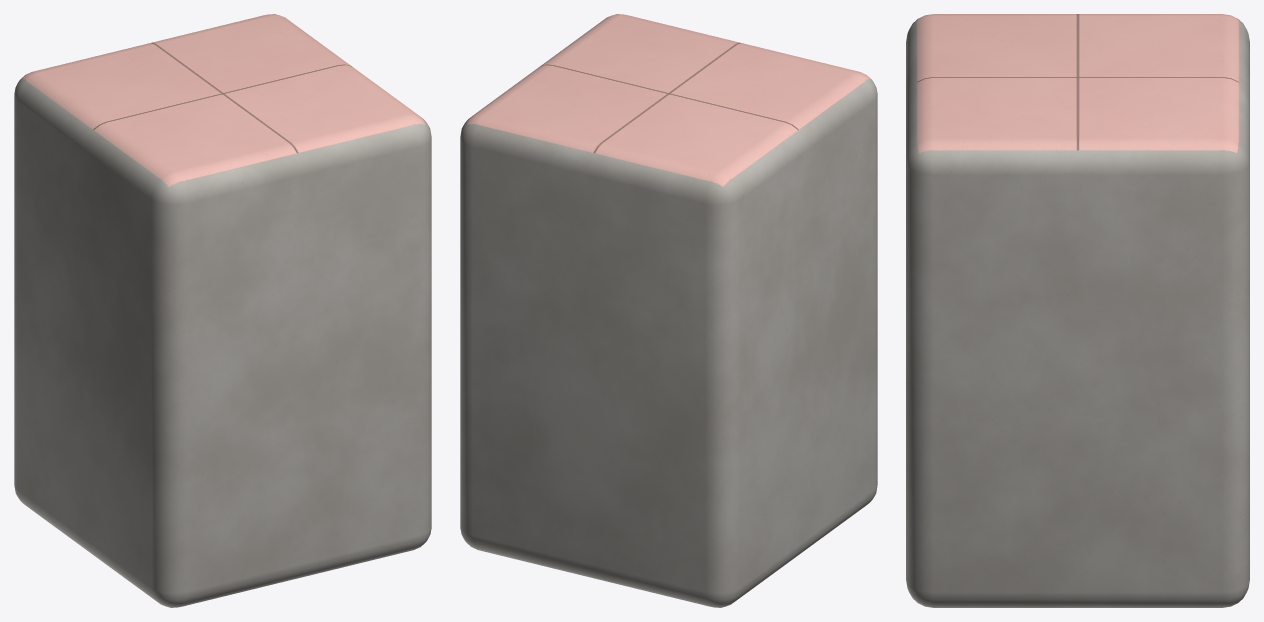
File: SM_Tile_Pink.fbx
3 renders of one model, left to right at view 1: azimuth 30°, elevation 25°; view 2: azimuth 150°, elevation 25°; view 3: azimuth 270°, elevation 25°, orthographic. The views are drawn at different scales.
Parts seen in each view (by area): view 1: SM_Tile_Pink; view 2: SM_Tile_Pink; view 3: SM_Tile_Pink.
Boxes of the visible parts, x1,y1,x2,y2 form: SM_Tile_Pink: (14,14,431,607); SM_Tile_Pink: (460,14,877,607); SM_Tile_Pink: (906,14,1249,607).
Bounding box in the file's own units: 2 × 3 × 2.
